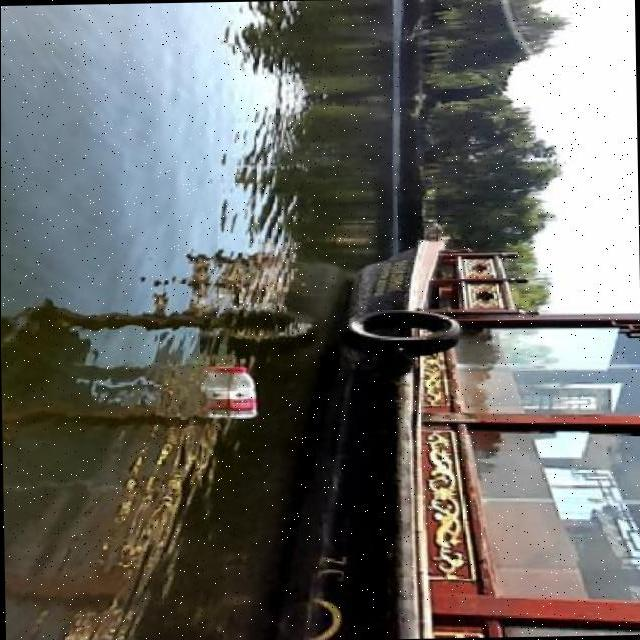Bottle: (220, 366, 258, 422)
